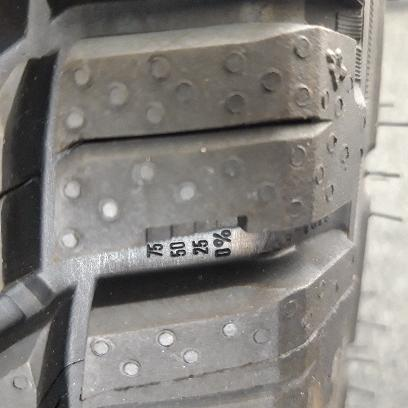temoin:100: (126, 214, 249, 250)
